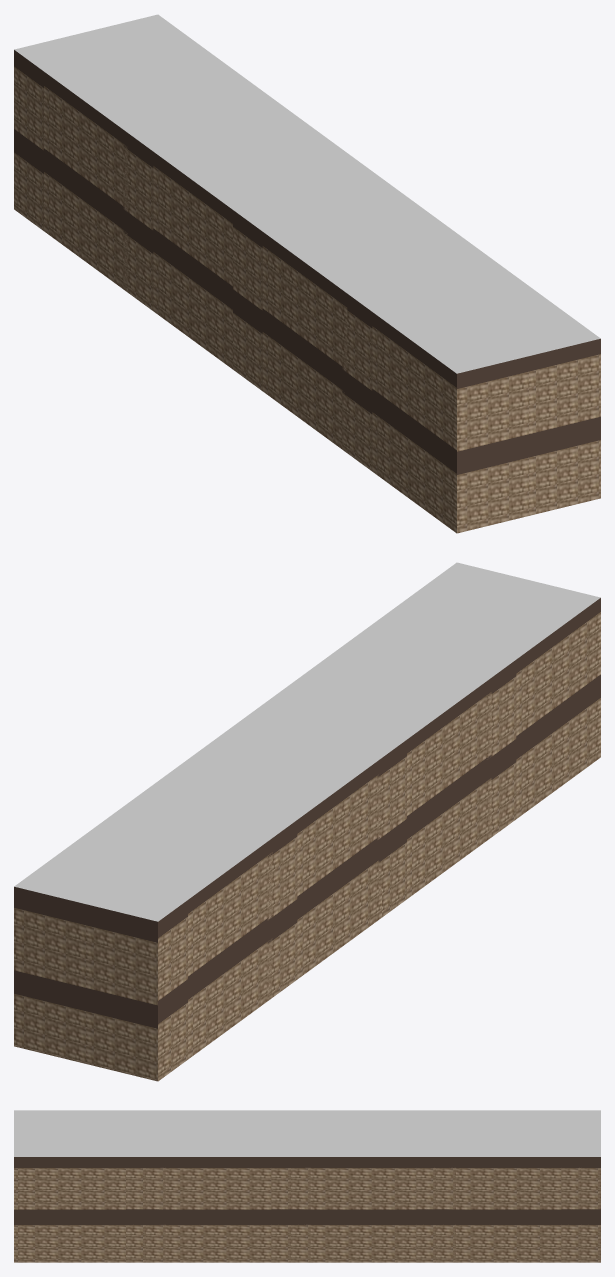
Rendered from Persian_wall_onConstruction.fbx.
3 views of the same model, one above another, from view 1: azimuth 30°, elevation 25°; view 2: azimuth 150°, elevation 25°; view 3: azimuth 270°, elevation 25° (orthographic). The views are drawn at different scales.
Visible parts, largest first — view 1: Cube_002; view 2: Cube_002; view 3: Cube_002.
Part boxes in pixels (x1,y1,x2,y2): Cube_002: [14, 14, 600, 533]; Cube_002: [14, 562, 600, 1081]; Cube_002: [14, 1110, 600, 1262].
Size of the model in its own units: 1.97 by 2.08 by 10.47.
